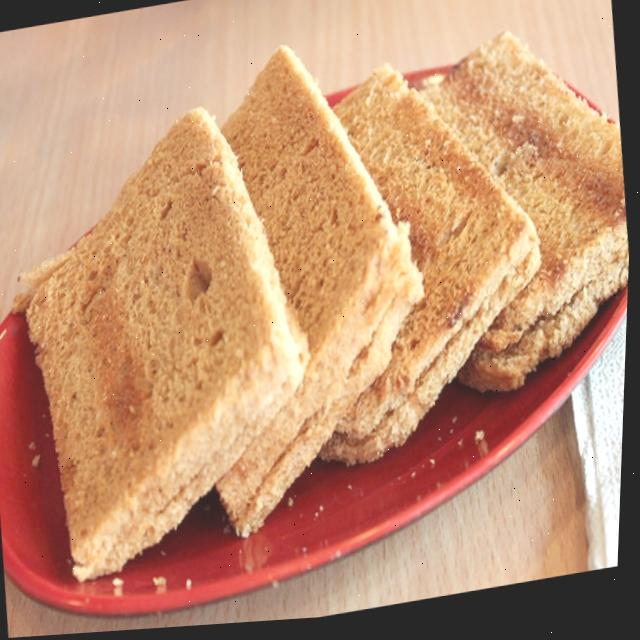面包点心: (0, 0, 639, 630)
